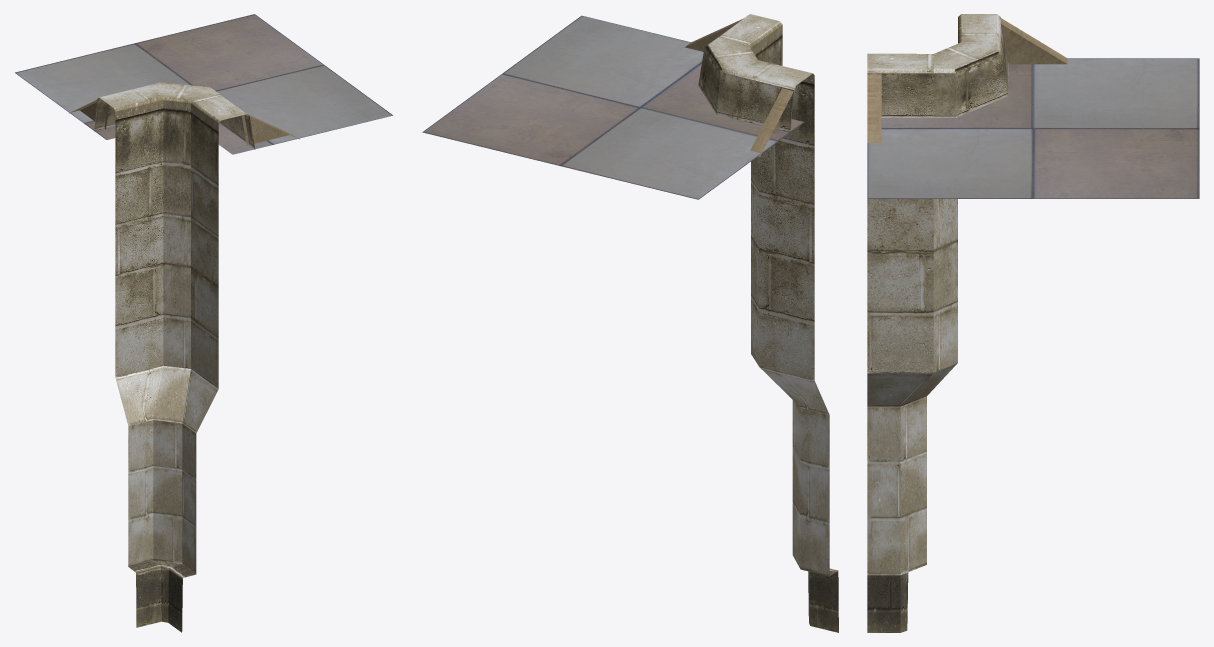
Rendered from castle-edge-1.fbx.
3 renders of one model, left to right at view 1: azimuth 30°, elevation 25°; view 2: azimuth 150°, elevation 25°; view 3: azimuth 270°, elevation 25°, orthographic. The views are drawn at different scales.
Parts seen in each view (by area): view 1: castle-edge-1; view 2: castle-edge-1; view 3: castle-edge-1.
Boxes of the visible parts, left/top/right/bottom form: castle-edge-1: left=15, top=14, right=392, bottom=632; castle-edge-1: left=422, top=14, right=838, bottom=632; castle-edge-1: left=867, top=14, right=1199, bottom=632.
Size of the model in its own units: 200 by 400 by 200.
